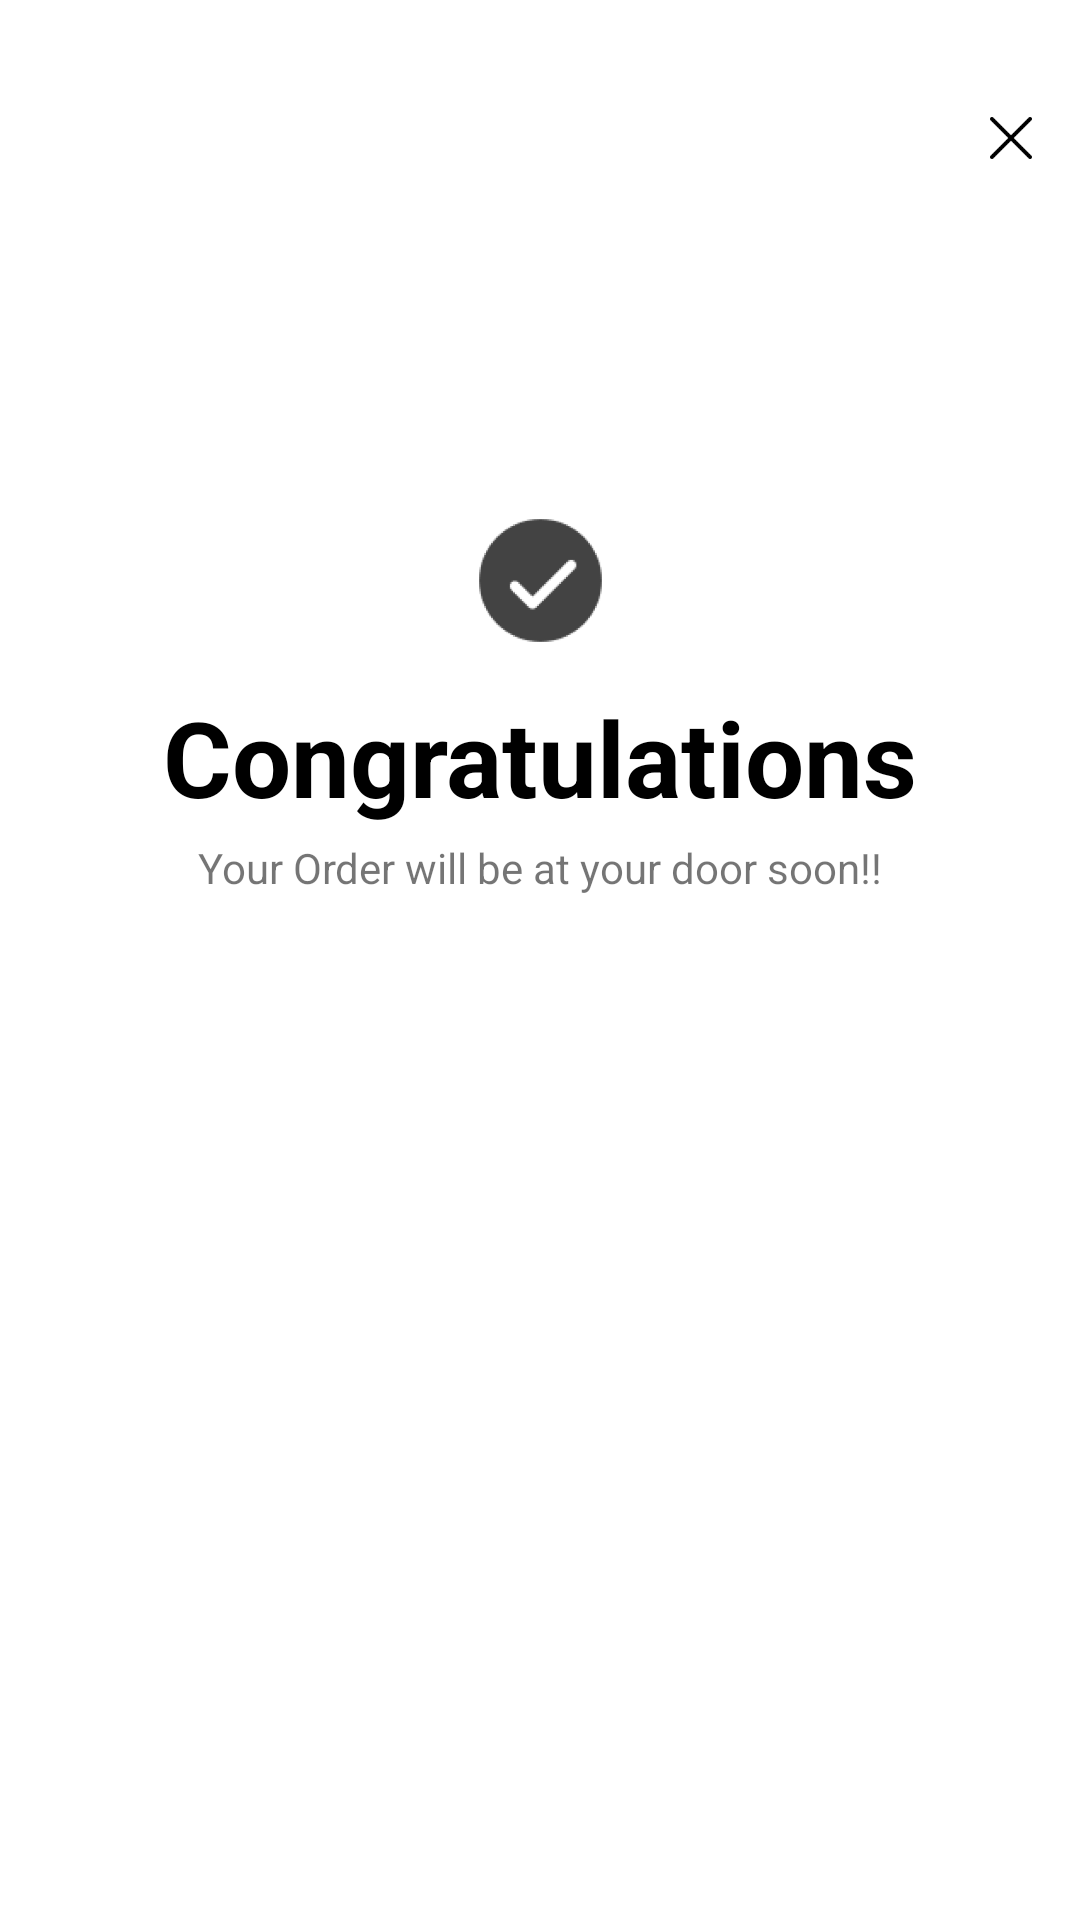

Screen size 1080px x 1920px. Icon name, then its center in pixels as (x=x, y=y):
check circle: (x=540, y=580)
Close: (x=1011, y=138)
